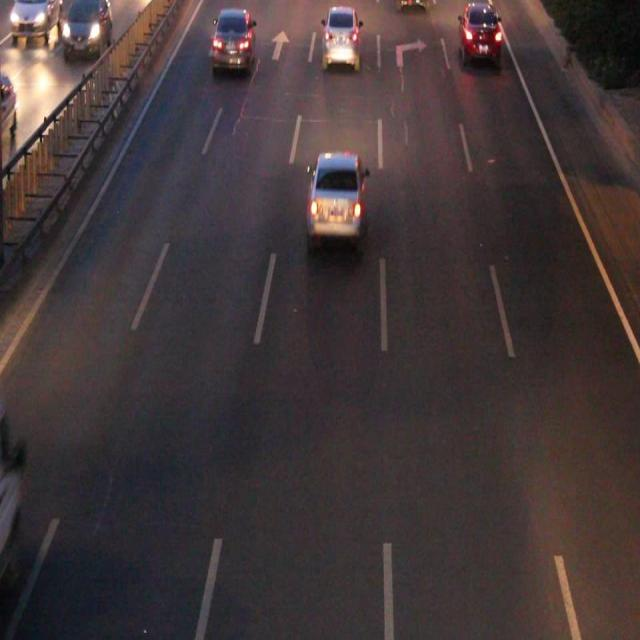car: (309, 154, 362, 234), (213, 10, 254, 68), (322, 9, 359, 66), (458, 8, 499, 59)
